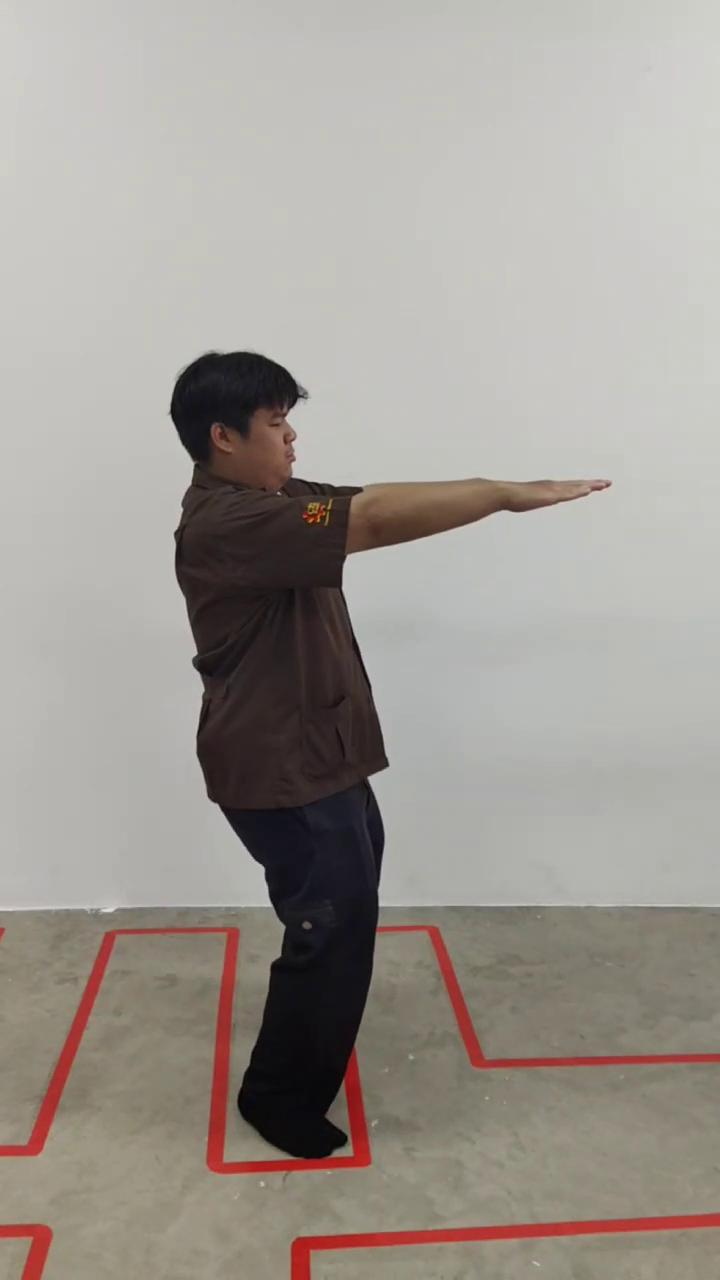squat up: (171, 349, 599, 1166)
